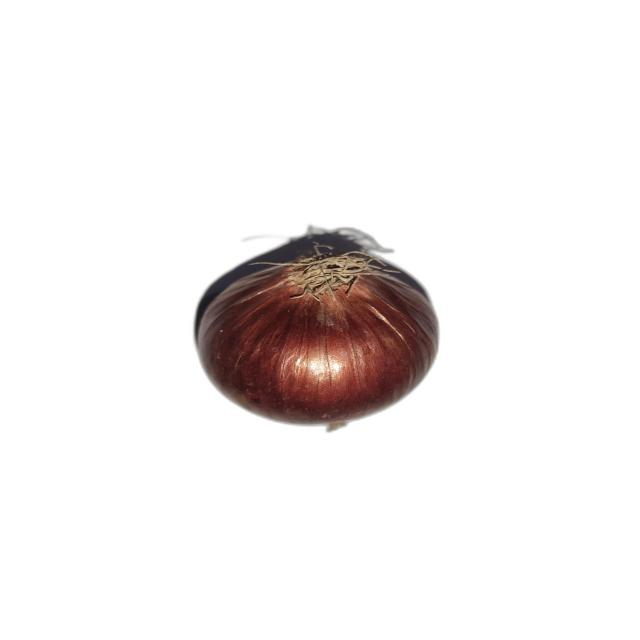onion: (197, 244, 440, 432)
